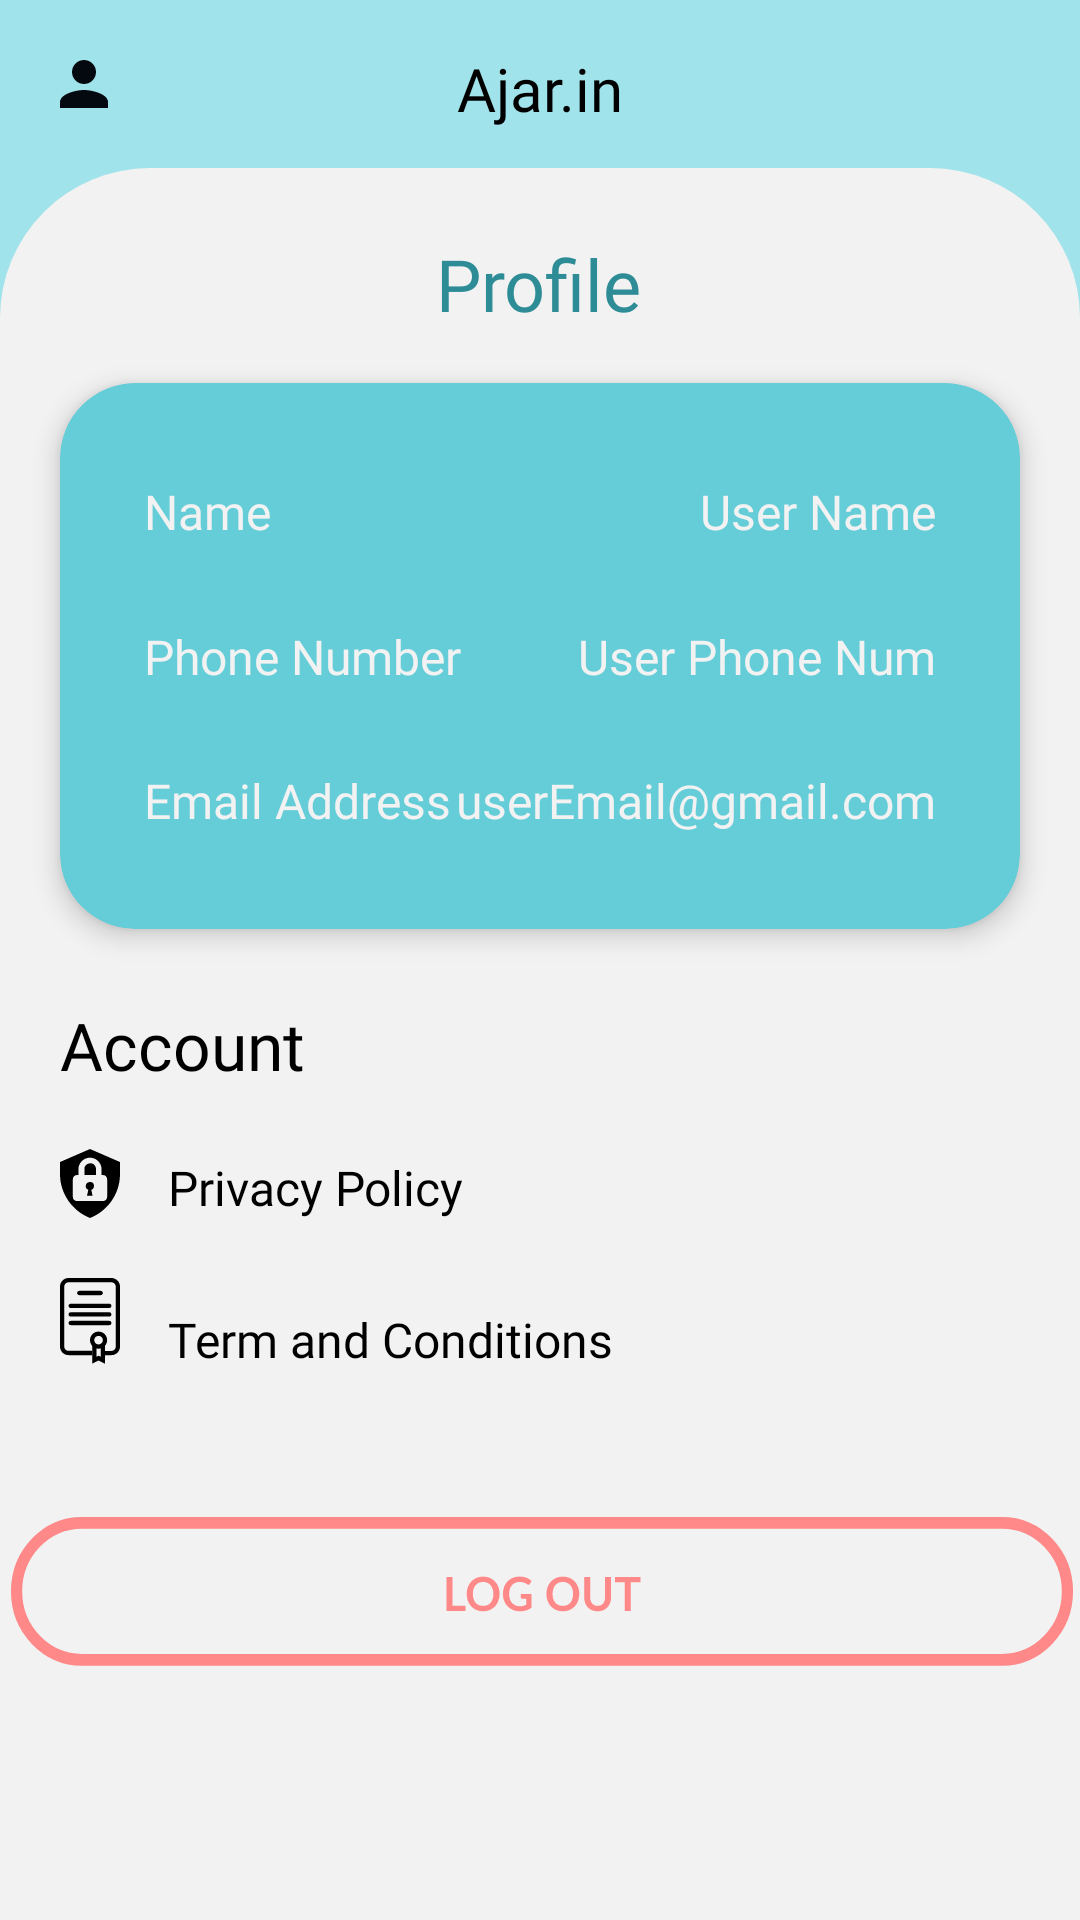

Point at icon controls on the screen. Image size 1080 × 1920, points as (x,y).
person: (84,84)
terms: (90,1321)
